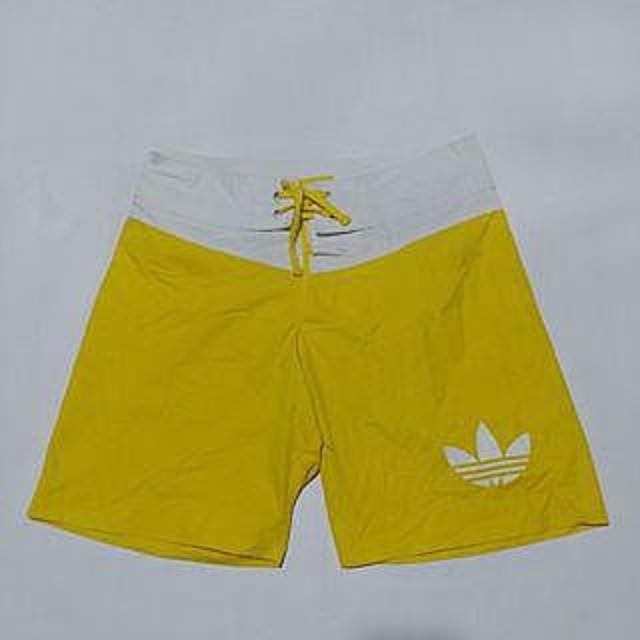SHORT: (18, 138, 640, 578)
